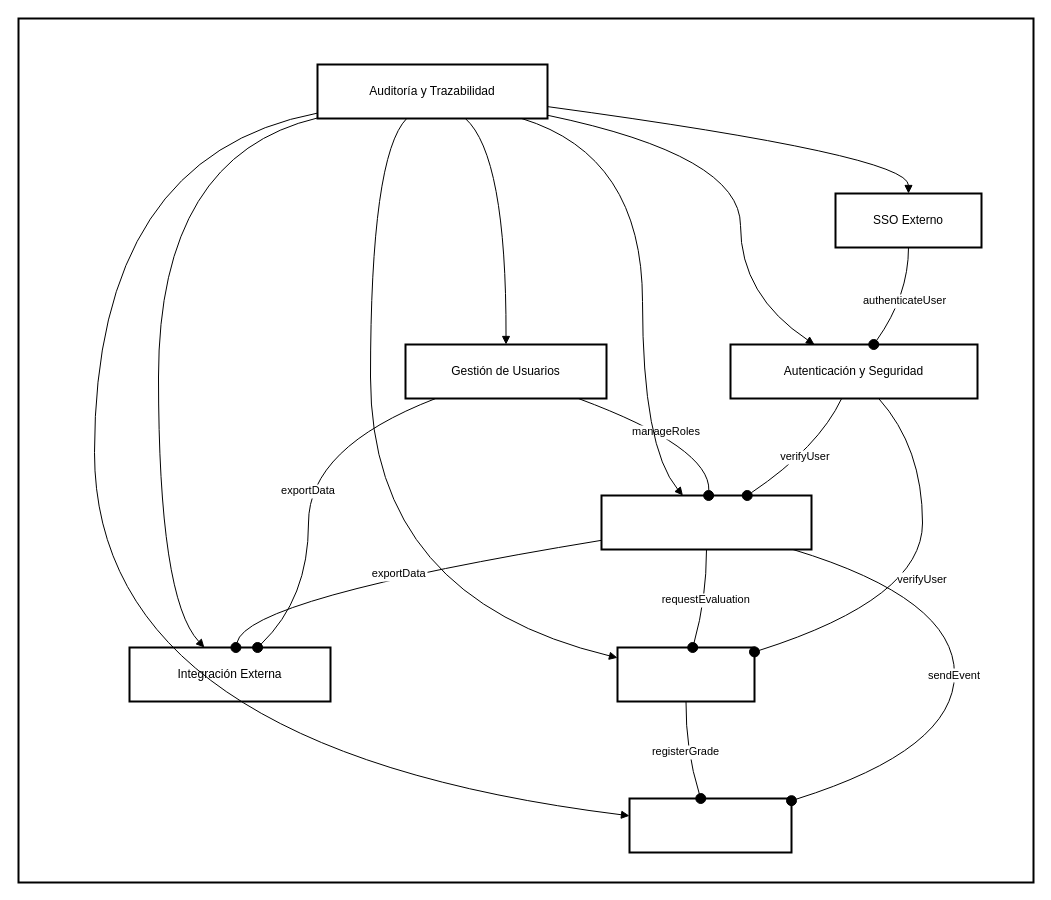
Some shapes in this 1051 by 900 pixel diagram are drawn without their labels. The shapes that lost their labels are listed below. From the top down, each one's box as (x1, y1, x2, y2) in pixels, then its label:
(600, 494, 812, 550): Gestión de Proyectos
(616, 646, 755, 702): Evaluación
(628, 797, 792, 853): Notificaciones
